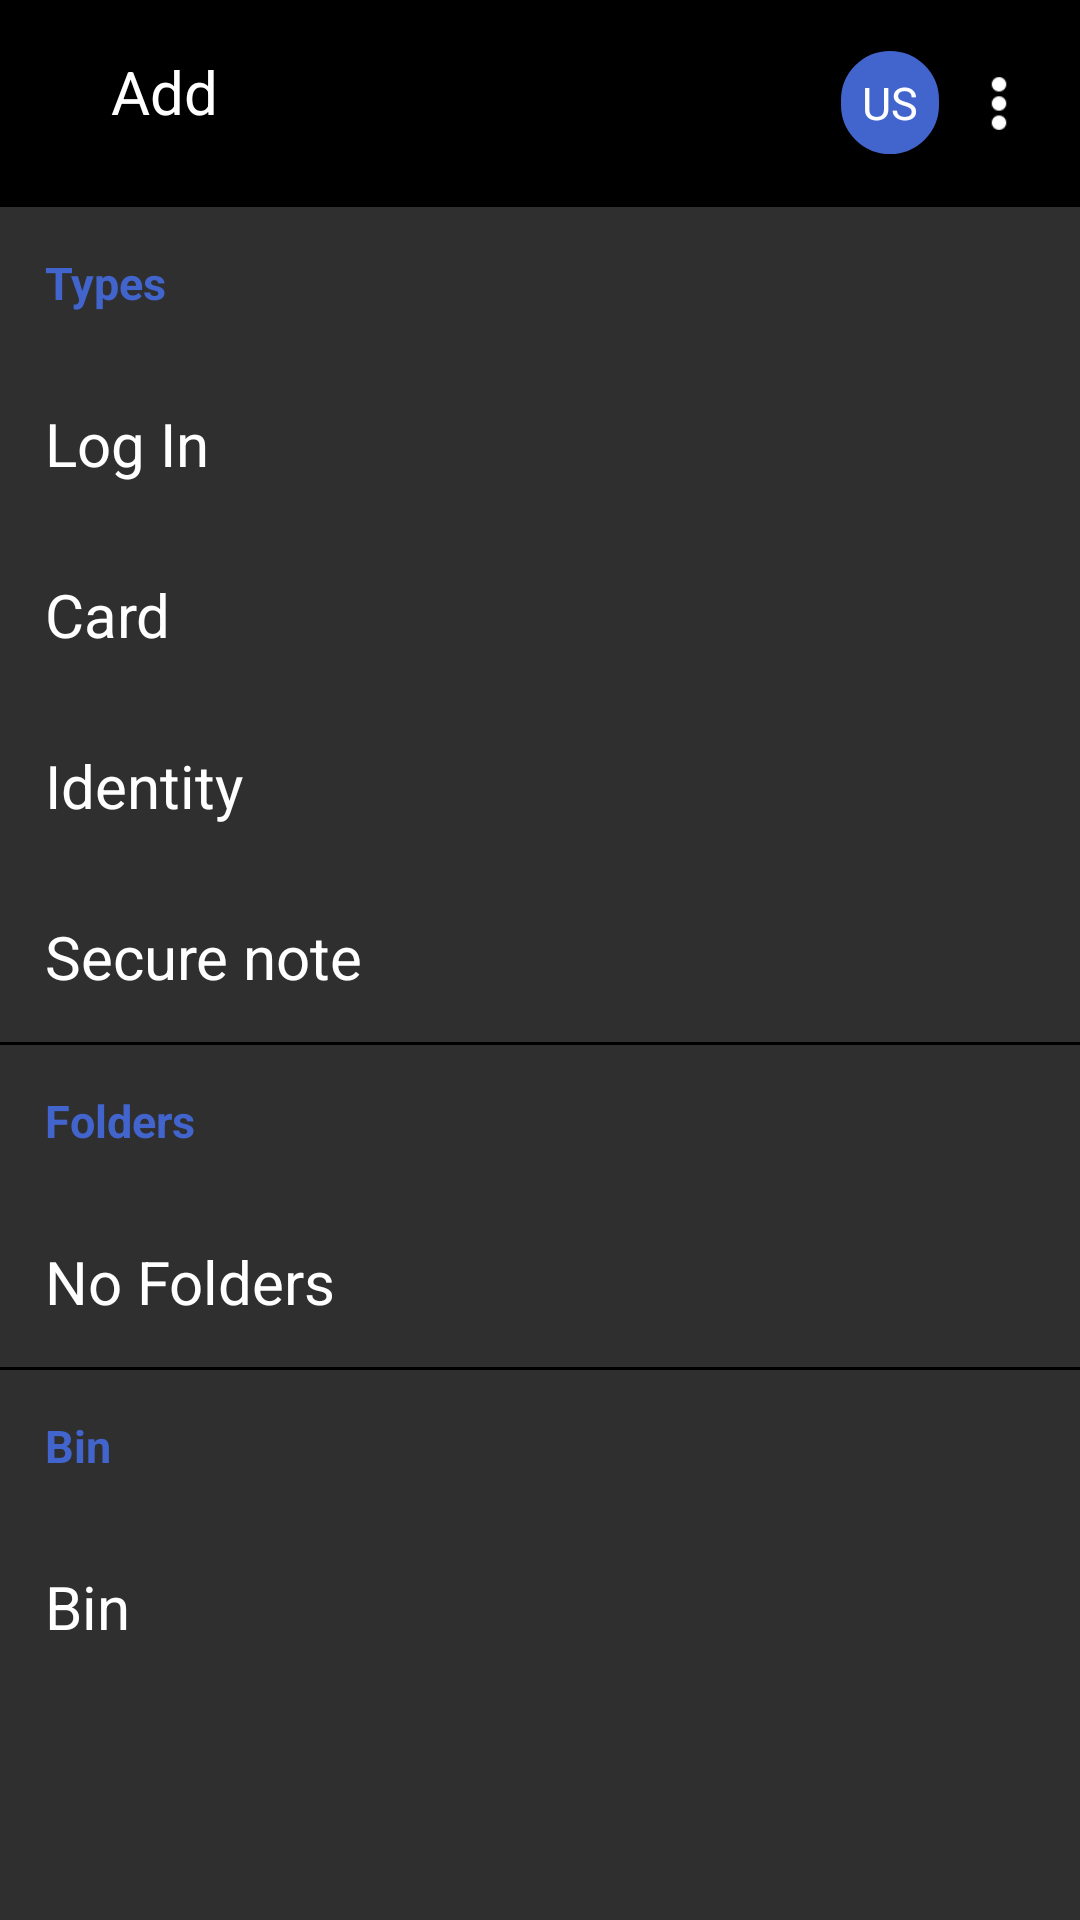

Named icons in this screenshot (1080*1920) and their bounding boxes, (x1, y1, x2, y2):
more: (991, 77, 1007, 130)
